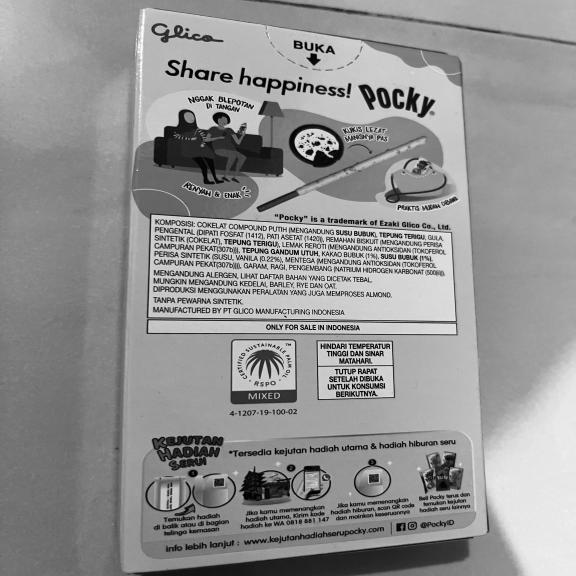Kertas: (124, 8, 488, 572)
